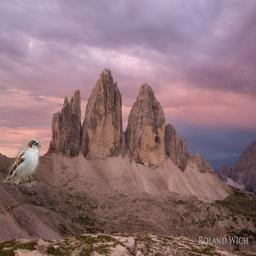Sparrow: (1, 138, 41, 187)
